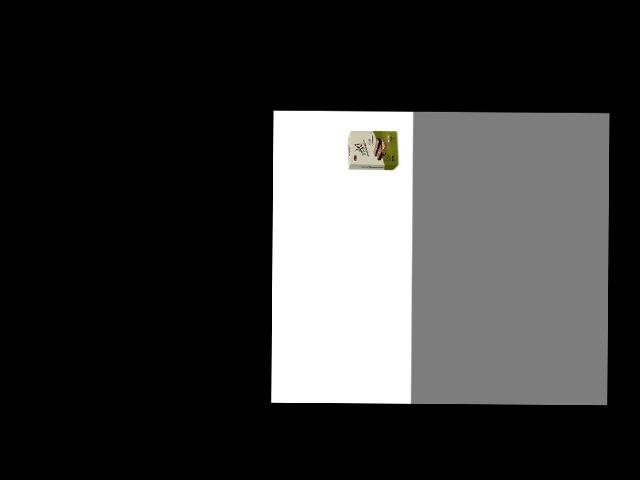chocolate: (347, 130, 399, 173)
